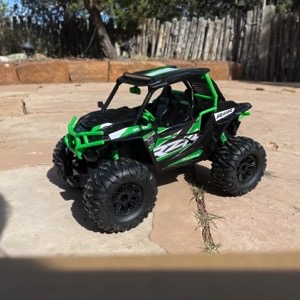polaris: (53, 65, 268, 235)
